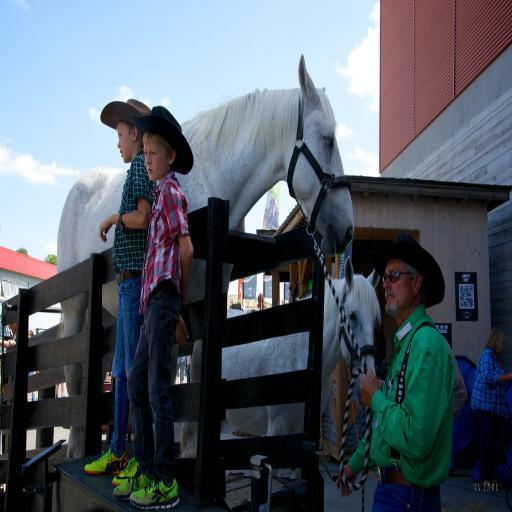horse: (56, 50, 354, 464), (175, 254, 385, 484)
